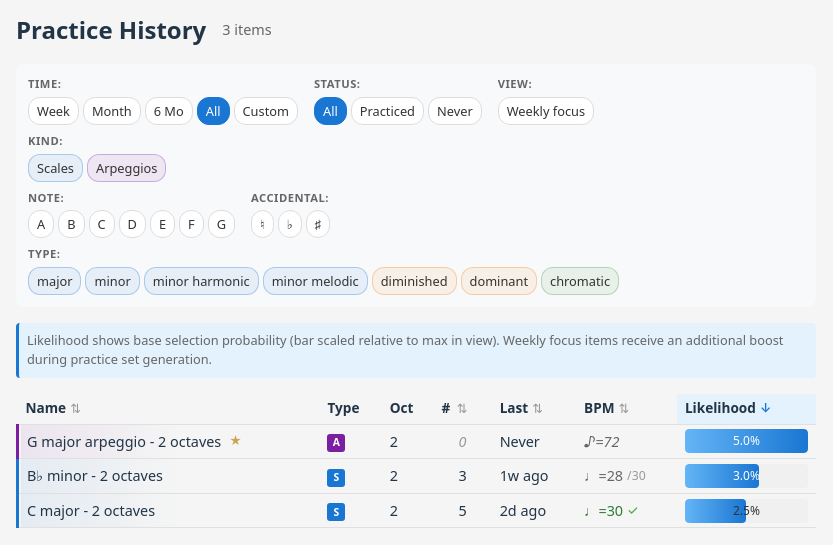
it: HistoryPage › should filter by note
Expected: the text "C major - 2 octaves" is shown, [27,501,155,520]
Click the button "C": [102, 224] box [88,210,115,238]
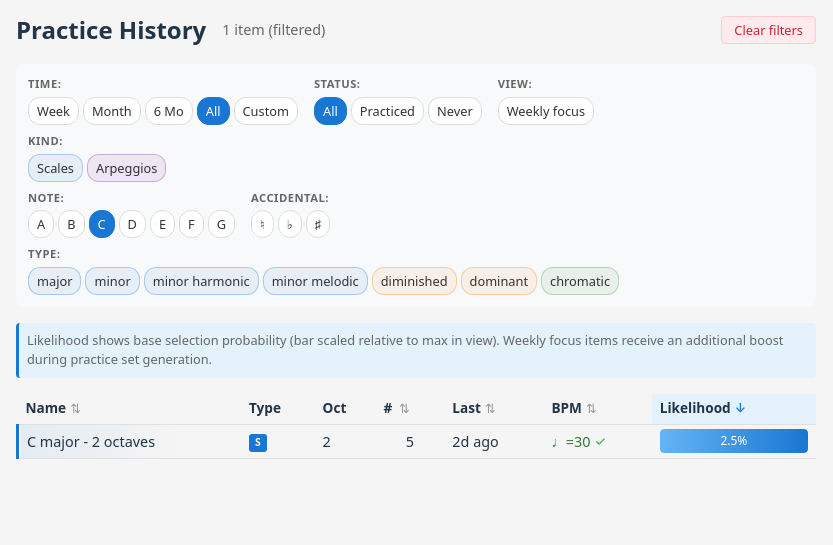
Expected: the text "C major - 2 octaves" is shown, [27,432,155,450]
Expected: the text "1 item (filtered)" is shown, [222,19,326,41]
